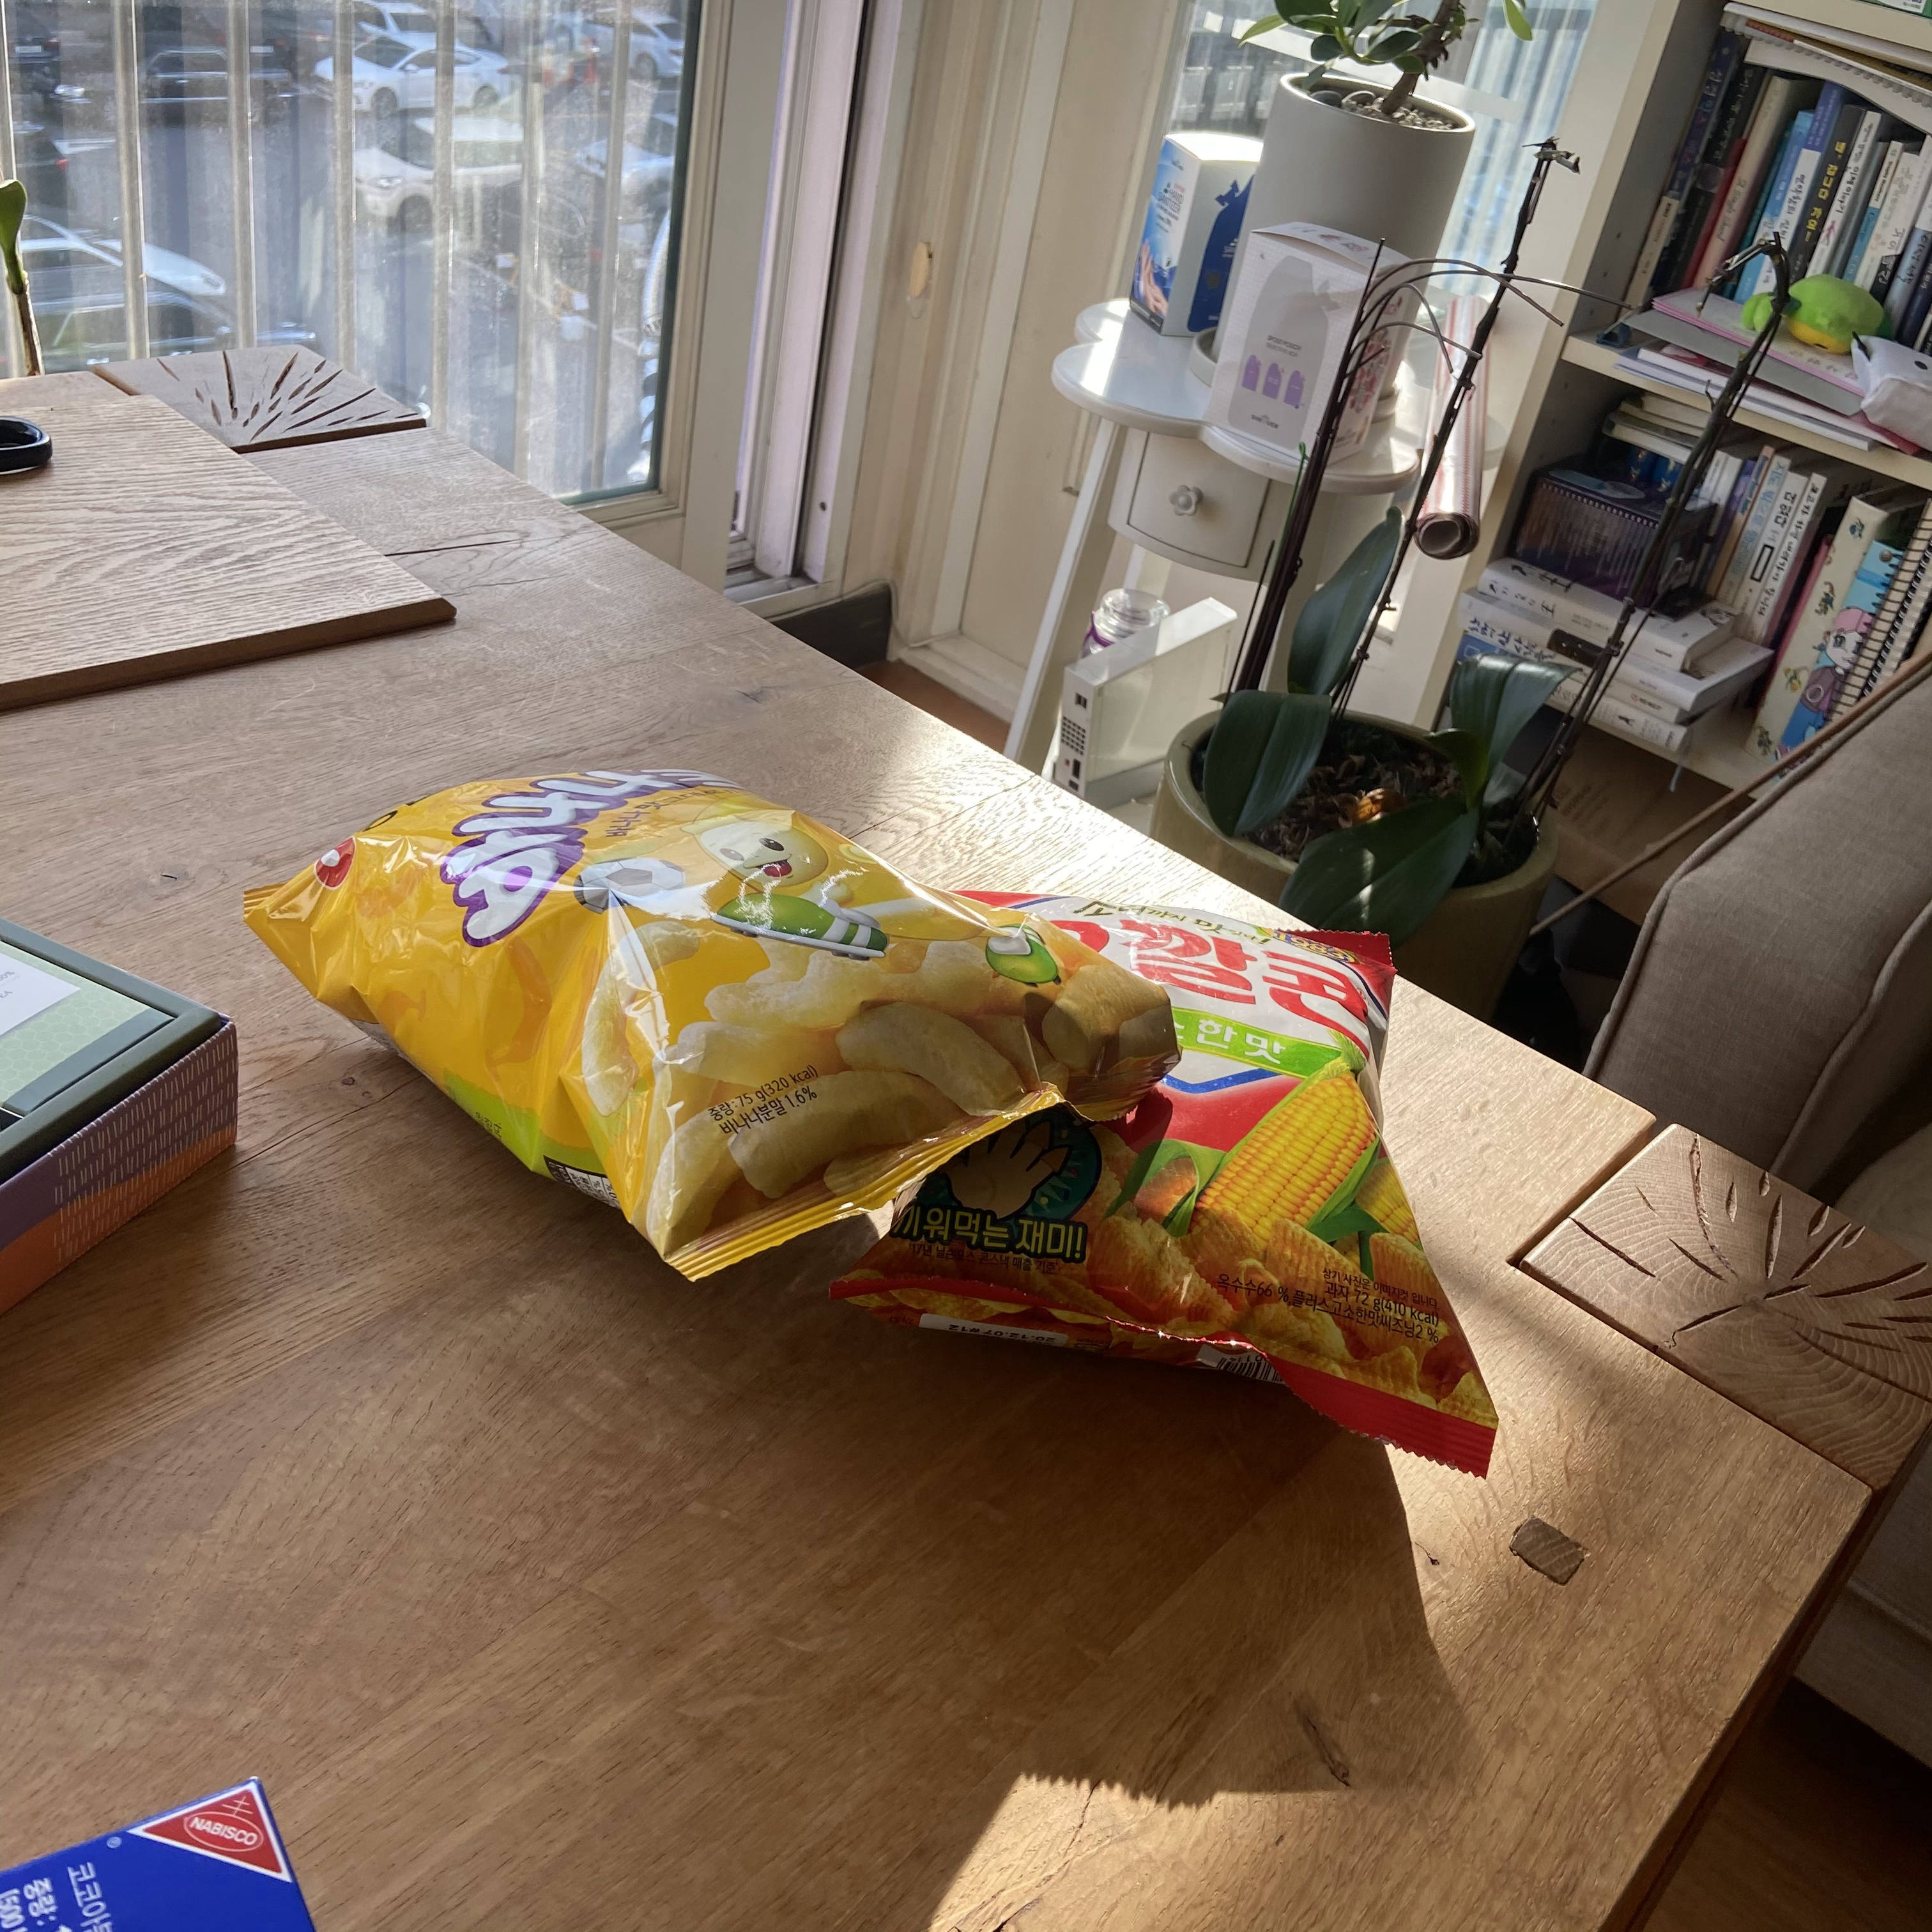banana: (219, 732, 1194, 1299)
ggoggalcon: (801, 856, 1516, 1509)
